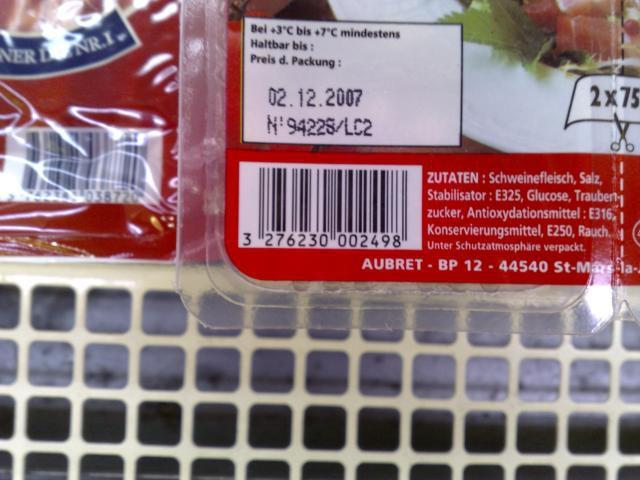Barcode: (237, 160, 423, 251)
